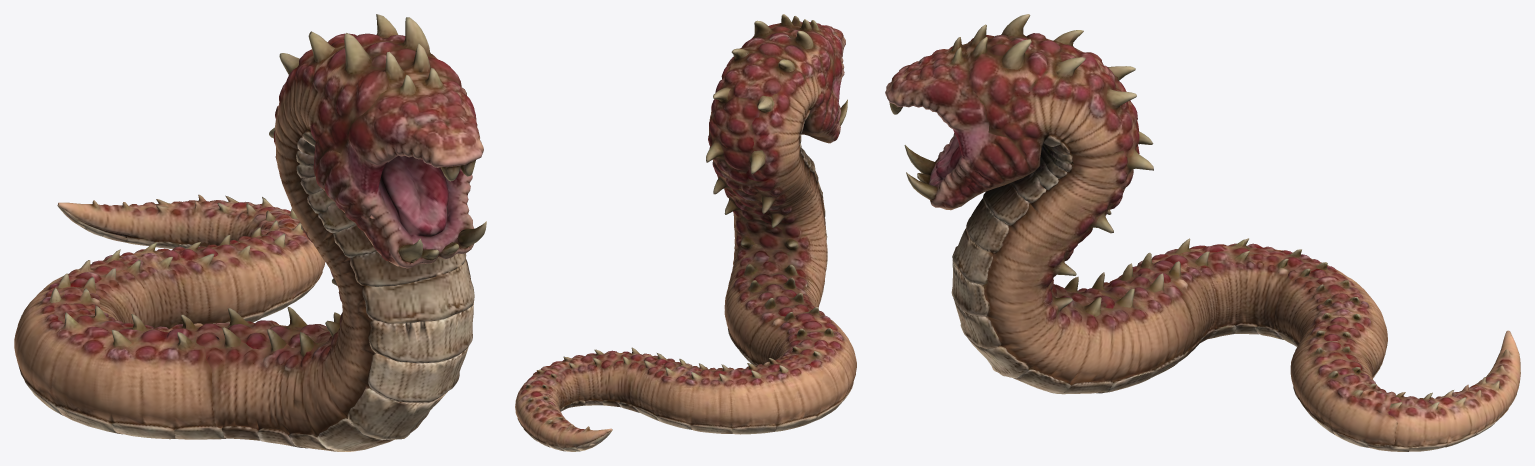
Rendered from MZ4250 - Sathaq Worm.glb.
3 renders of one model, left to right at view 1: azimuth 30°, elevation 25°; view 2: azimuth 150°, elevation 25°; view 3: azimuth 270°, elevation 25°, orthographic. The views are drawn at different scales.
Parts seen in each view (by area): view 1: ORGANIC BASE SPHERE.001; view 2: ORGANIC BASE SPHERE.001; view 3: ORGANIC BASE SPHERE.001.
Boxes of the visible parts, x1,y1,x2,y2 form: ORGANIC BASE SPHERE.001: [14, 14, 486, 451]; ORGANIC BASE SPHERE.001: [515, 14, 856, 451]; ORGANIC BASE SPHERE.001: [885, 14, 1520, 451].
Bounding box in the file's own units: 1.42 × 1.62 × 2.49.
Materials: 1 (1 with a texture image).
